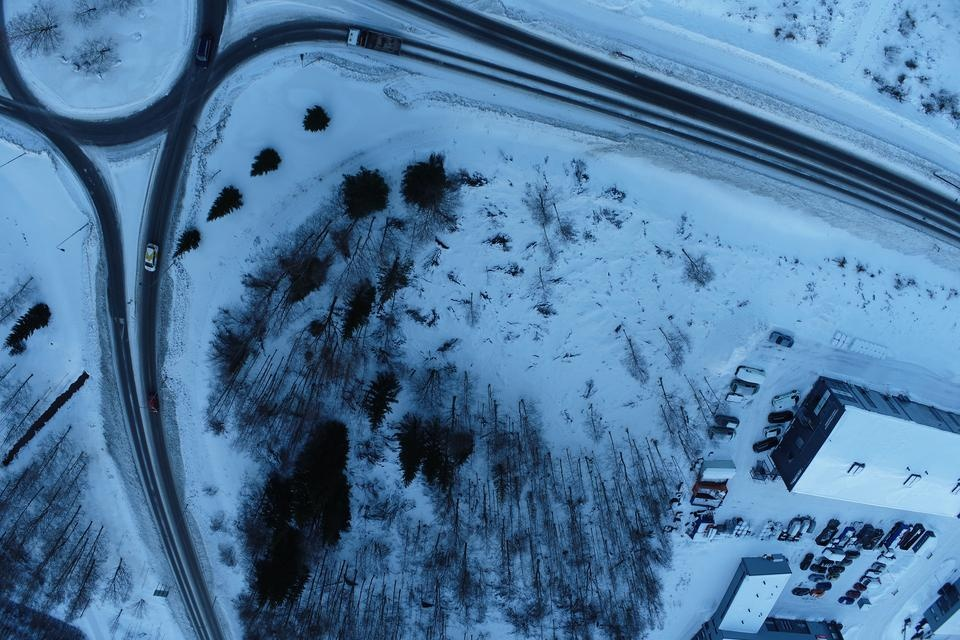roundabout: (0, 0, 281, 175)
